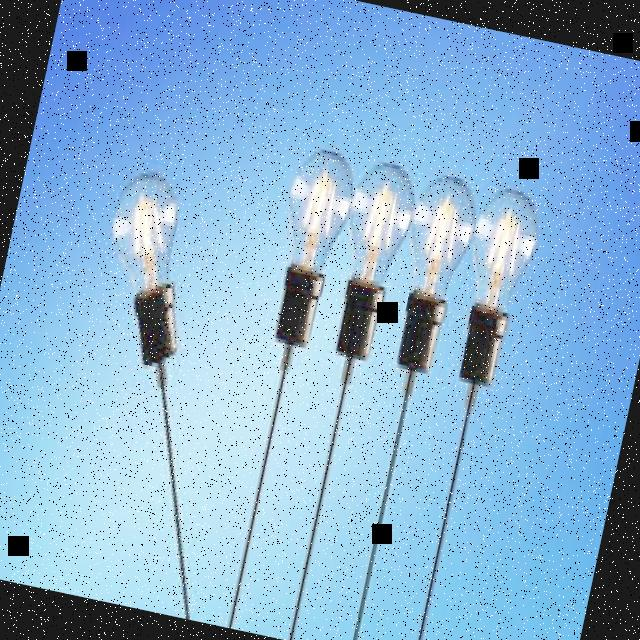light_bulb: (68, 154, 224, 412), (304, 132, 436, 404), (245, 124, 372, 393), (431, 169, 556, 426), (370, 159, 489, 413)
